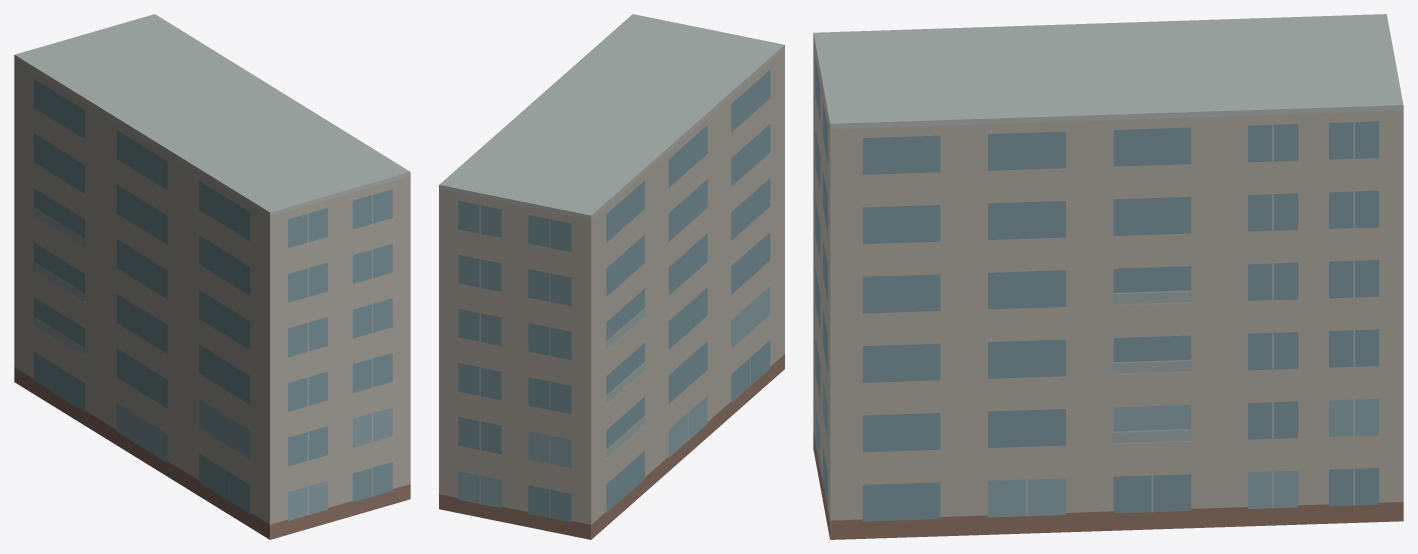
Rendered from survey-upis-32561500.glb.
3 views of the same model, side by side, from view 1: azimuth 30°, elevation 25°; view 2: azimuth 150°, elevation 25°; view 3: azimuth 270°, elevation 25° (orthographic). The views are drawn at different scales.
Parts seen in each view (by area): view 1: survey-upis-32561500.tmp; view 2: survey-upis-32561500.tmp; view 3: survey-upis-32561500.tmp.
Boxes of the visible parts, x1,y1,x2,y2 form: survey-upis-32561500.tmp: [14, 14, 410, 539]; survey-upis-32561500.tmp: [439, 14, 784, 539]; survey-upis-32561500.tmp: [813, 14, 1403, 539].
Bounding box in the file's own units: 10.48 × 18.5 × 23.79.
